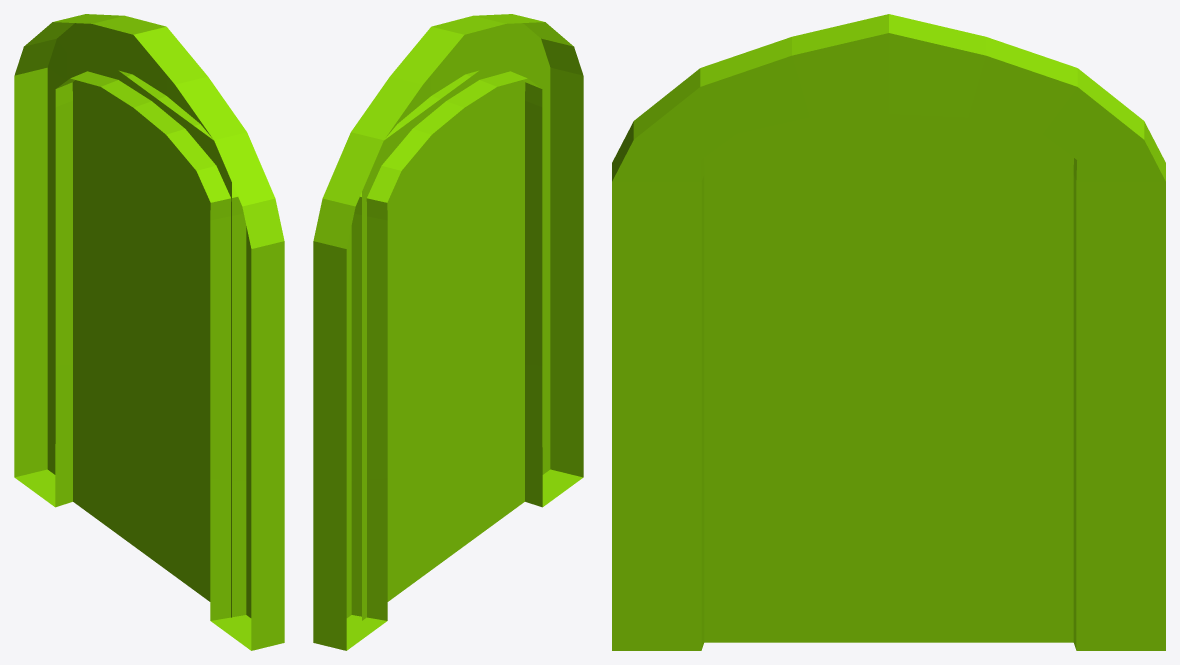
The model's file is puerta.fbx.
The picture shows the model from 3 angles, left to right: view 1: azimuth 30°, elevation 25°; view 2: azimuth 150°, elevation 25°; view 3: azimuth 270°, elevation 25°; orthographic projection. The views are drawn at different scales.
Visible parts, largest first — view 1: Puerta; view 2: Puerta; view 3: Puerta.
Boxes of the visible parts, x1,y1,x2,y2 form: Puerta: (14, 14, 284, 650); Puerta: (313, 14, 583, 650); Puerta: (612, 14, 1165, 650).
Size of the model in its own units: 31.71 by 474 by 385.
